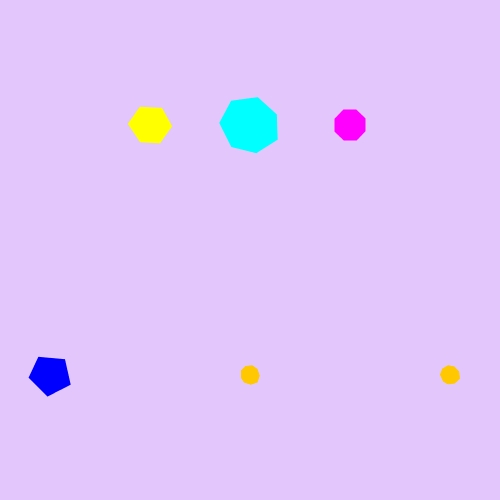heptagon: (217, 94, 283, 157)
hexagon: (125, 104, 176, 147)
nonagon: (236, 361, 265, 389), (436, 361, 465, 389)
octagon: (330, 105, 371, 146)
pentagon: (26, 351, 74, 399)
